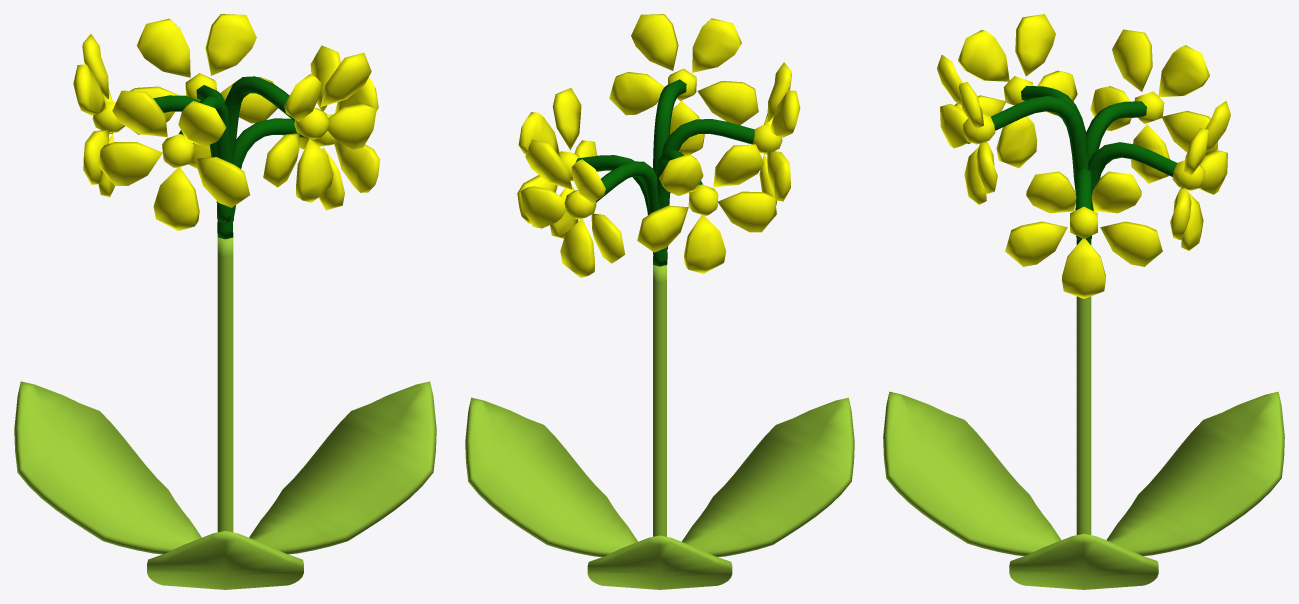
The model's file is primrose_0001.obj.
3 renders of one model, left to right at view 1: azimuth 30°, elevation 25°; view 2: azimuth 150°, elevation 25°; view 3: azimuth 270°, elevation 25°, orthographic. The views are drawn at different scales.
Parts seen in each view (by area): view 1: primrose_0001; view 2: primrose_0001; view 3: primrose_0001.
Boxes of the visible parts, x1,y1,x2,y2 form: primrose_0001: [14, 14, 436, 589]; primrose_0001: [465, 14, 854, 589]; primrose_0001: [883, 14, 1284, 589].
Size of the model in its own units: 2.24 by 3.3 by 2.36.
Materials: 1 (1 with a texture image).
